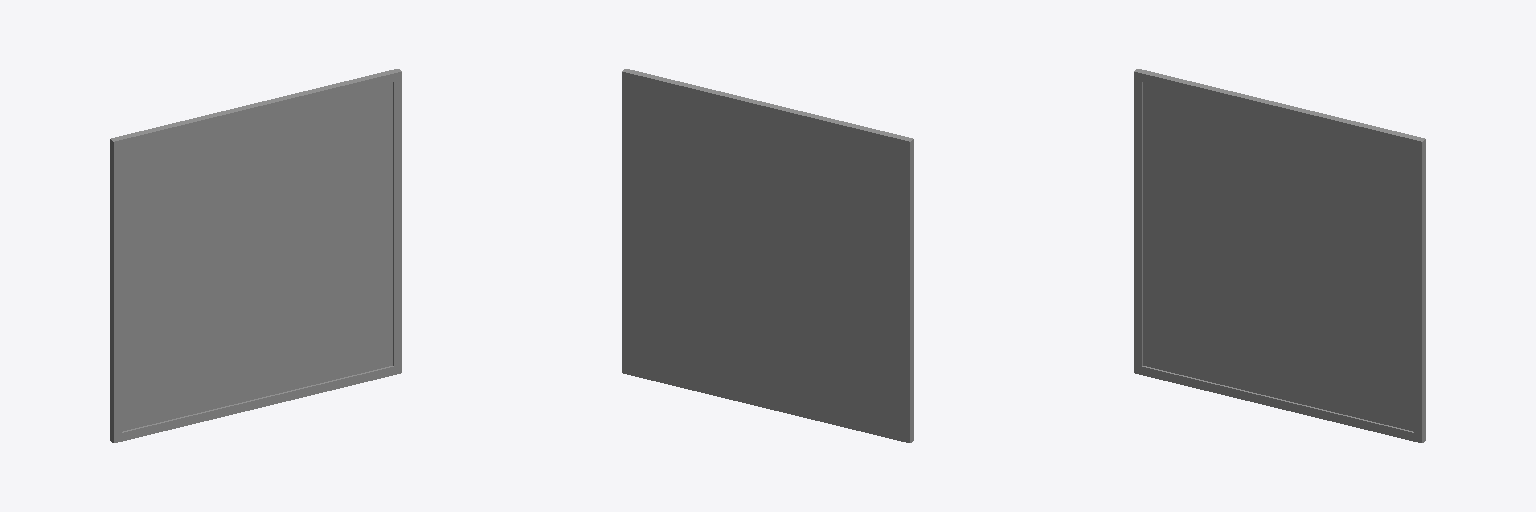
The model's file is october-painting2.obj.
3 views of the same model, side by side, from view 1: azimuth 30°, elevation 25°; view 2: azimuth 150°, elevation 25°; view 3: azimuth 330°, elevation 25° (orthographic).
Visible parts, largest first — view 1: october-painting2; view 2: october-painting2; view 3: october-painting2.
Boxes of the visible parts, x1,y1,x2,y2 form: october-painting2: [110, 69, 401, 442]; october-painting2: [622, 69, 913, 442]; october-painting2: [1134, 69, 1425, 442].
Size of the model in its own units: 0.4032 by 0.4032 by 0.01.